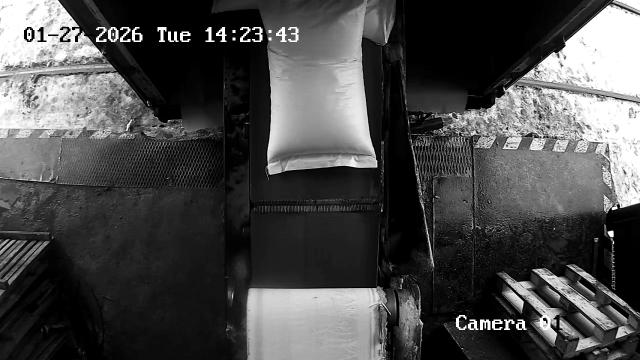bag: (259, 0, 378, 174)
